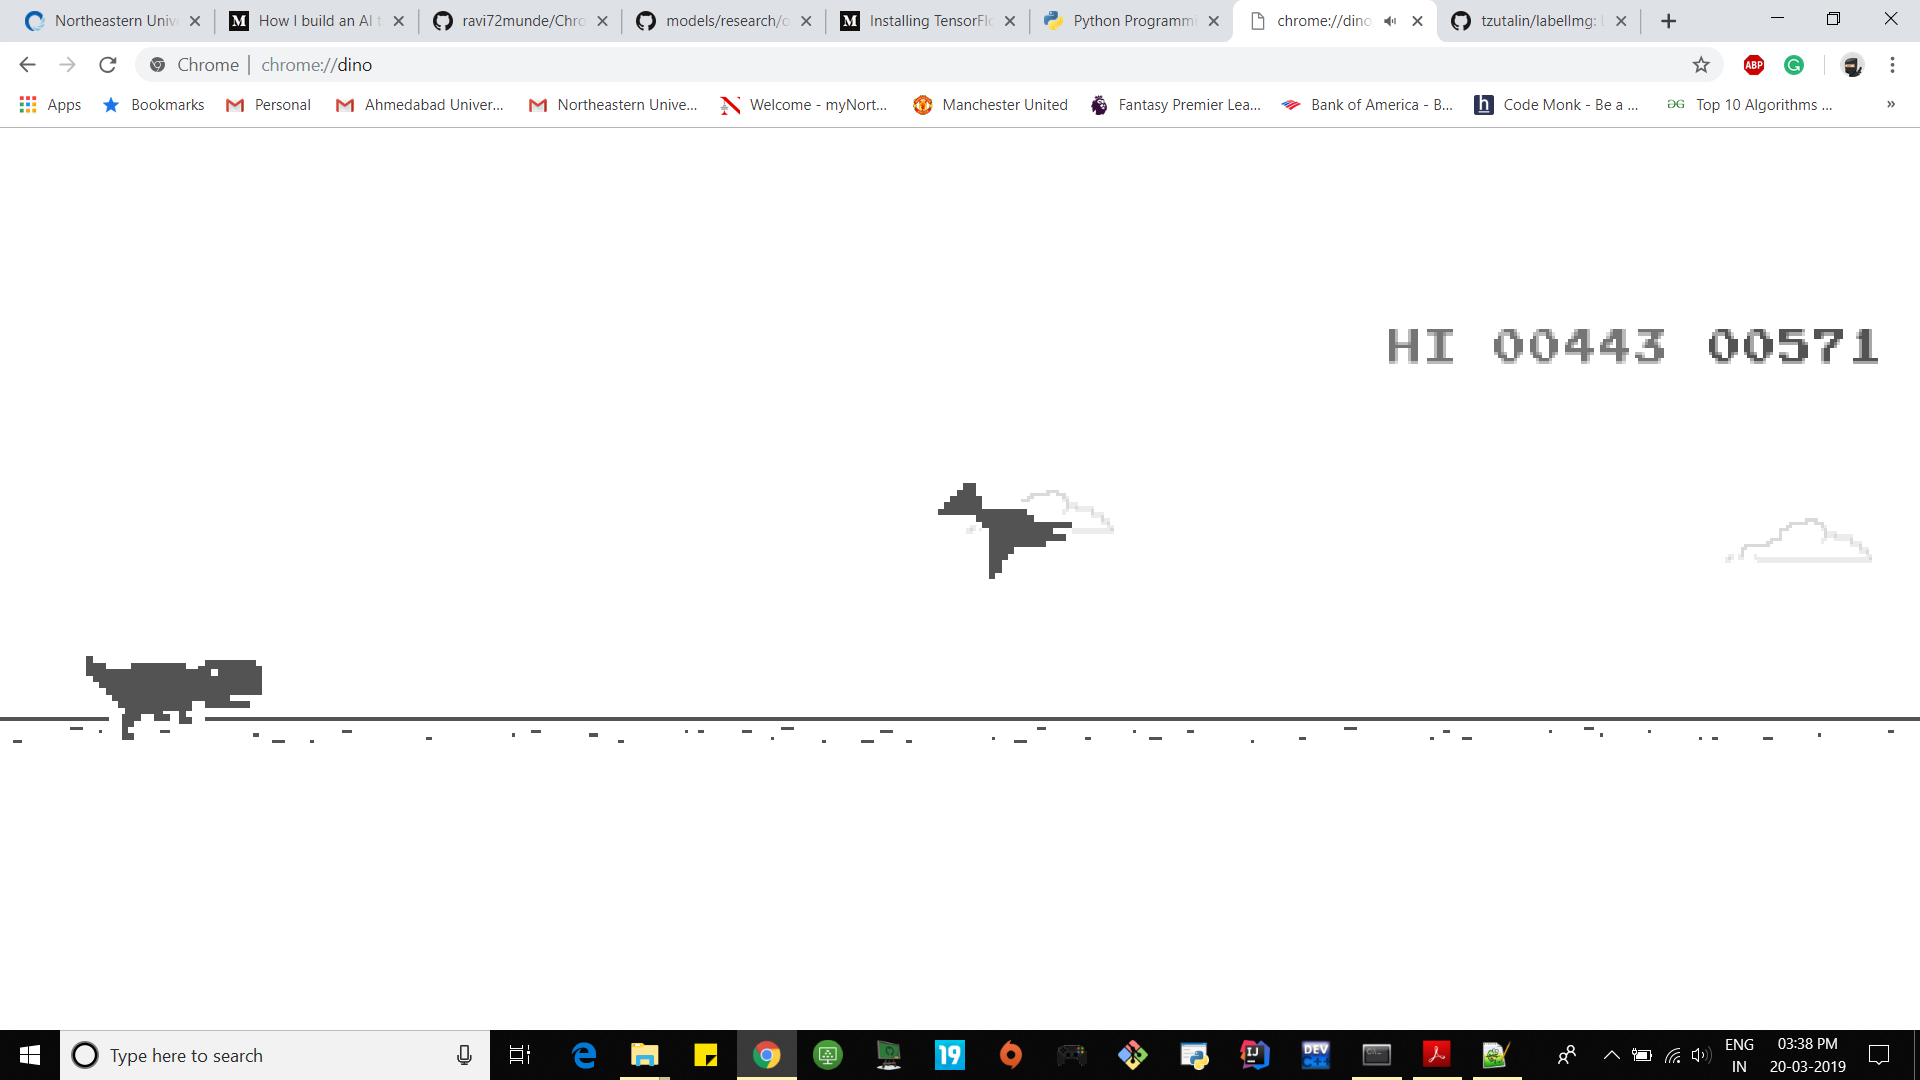bird: (932, 481, 1077, 582)
dino: (84, 653, 264, 740)
